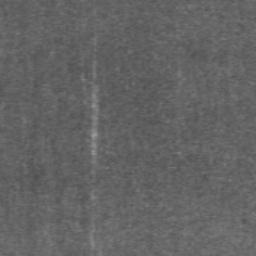Bright scratch: (91, 40, 100, 155)
